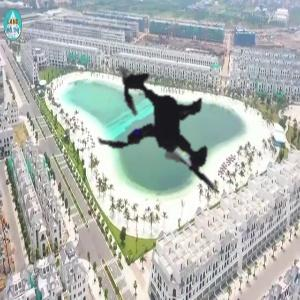drone: (45, 15, 284, 254)
